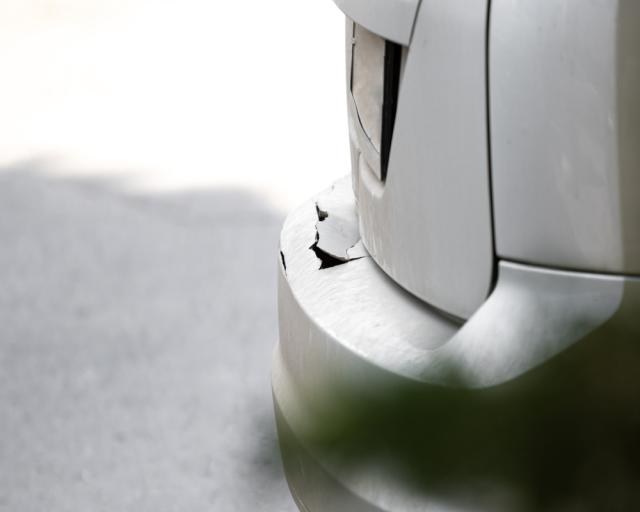crack: (309, 201, 376, 271), (349, 21, 379, 155), (279, 248, 287, 275)
